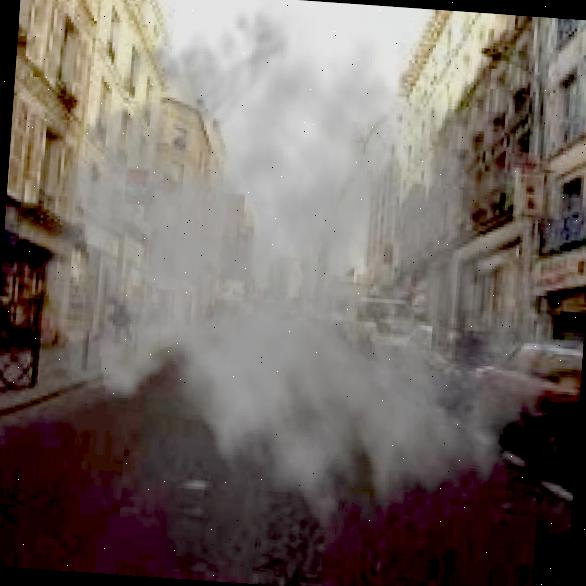smoke: (12, 0, 578, 565)
